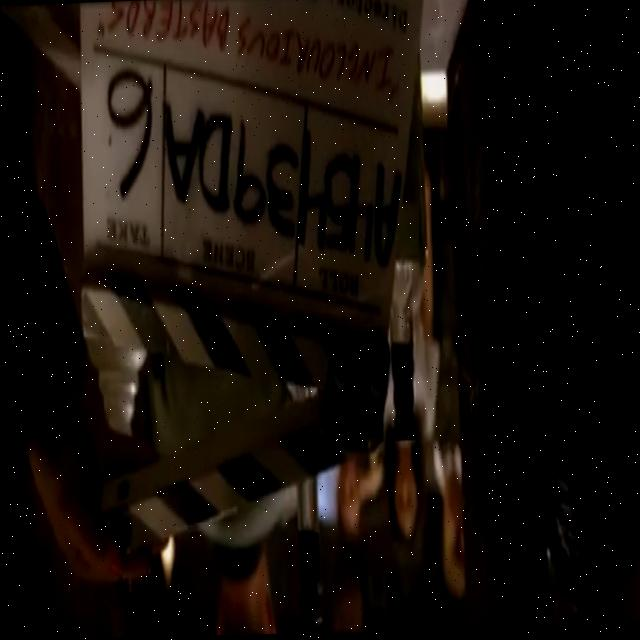objects: (66, 0, 428, 575)
slateboard: (417, 237, 468, 246)
